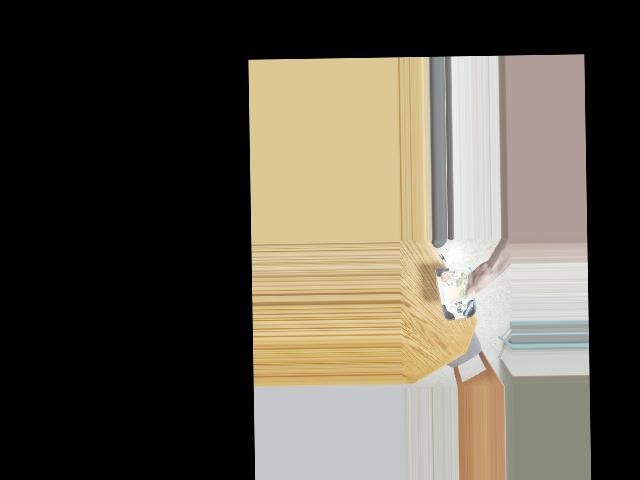cheese: (435, 266, 482, 318)
